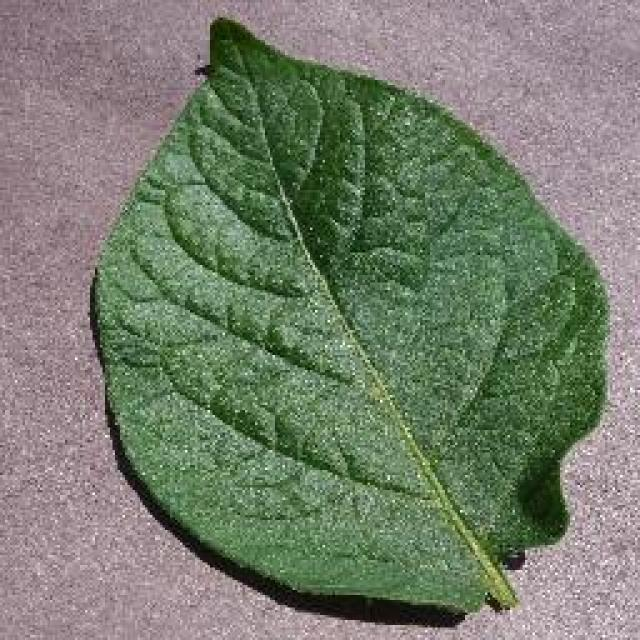Potato: (88, 12, 610, 618)
